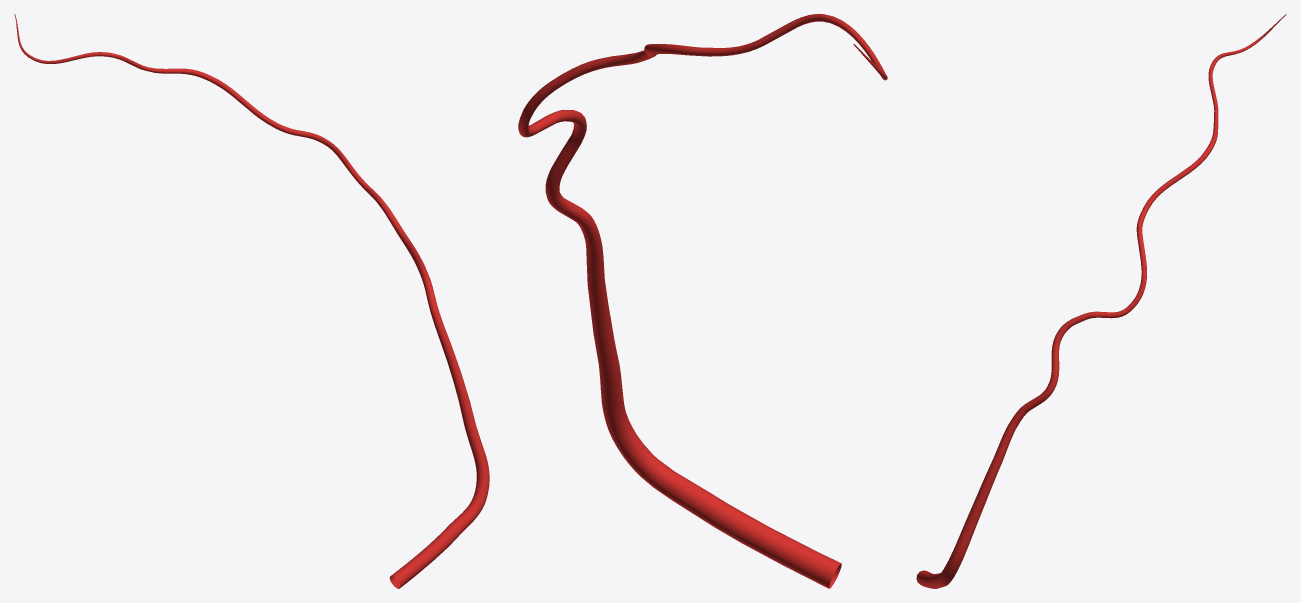
File: circulatorio-artery-of-central-sulcus-l.glb
The picture shows the model from 3 angles, left to right: view 1: azimuth 30°, elevation 25°; view 2: azimuth 150°, elevation 25°; view 3: azimuth 270°, elevation 25°; orthographic projection. The views are drawn at different scales.
Parts seen in each view (by area): view 1: Artery of central sulcus.l; view 2: Artery of central sulcus.l; view 3: Artery of central sulcus.l.
Part boxes in pixels (x1=…): Artery of central sulcus.l: x1=14, y1=14, x2=489, y2=588; Artery of central sulcus.l: x1=518, y1=14, x2=887, y2=588; Artery of central sulcus.l: x1=916, y1=14, x2=1286, y2=588.
Bounding box in the file's own units: 0.0497 × 0.0744 × 0.0523.
